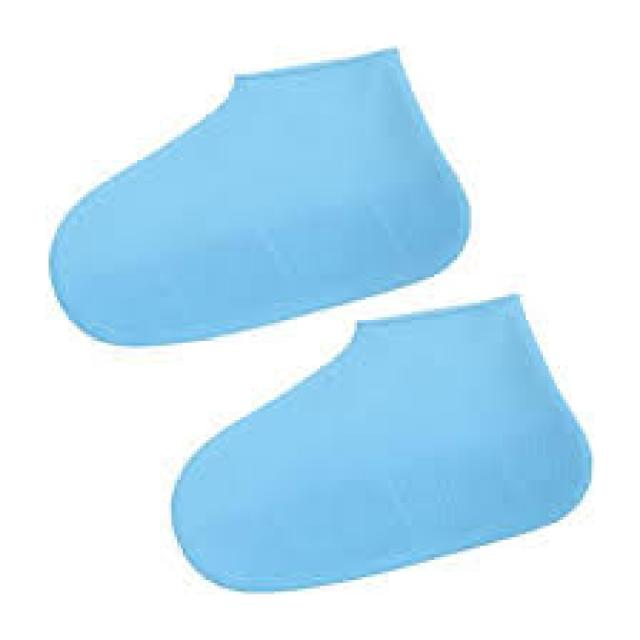sock: (46, 43, 471, 346), (168, 292, 592, 592)
